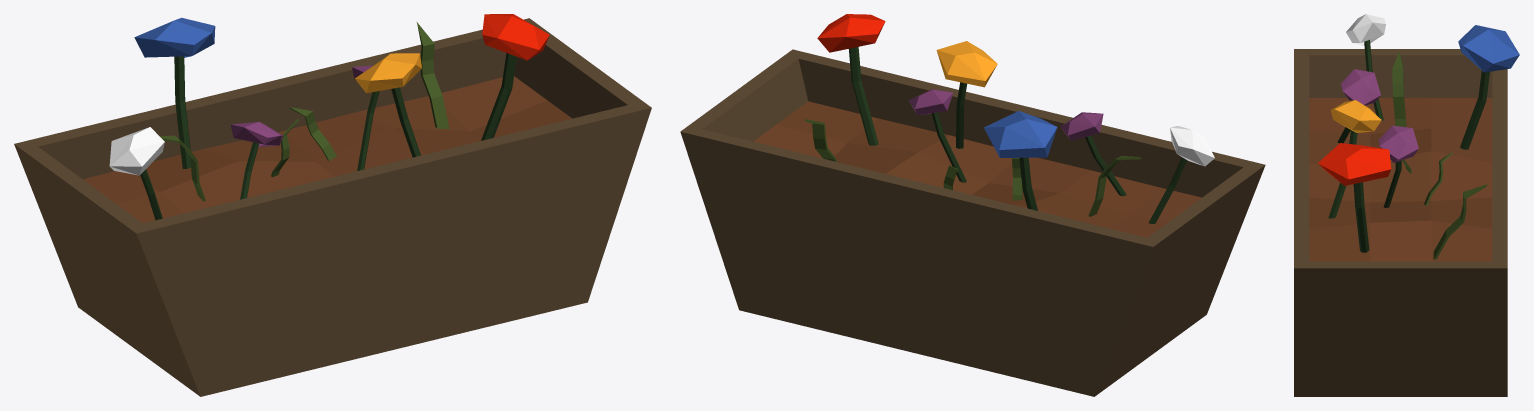
File: FlowerPot_2.fbx
3 views of the same model, side by side, from view 1: azimuth 30°, elevation 25°; view 2: azimuth 150°, elevation 25°; view 3: azimuth 270°, elevation 25° (orthographic). The views are drawn at different scales.
Parts seen in each view (by area): view 1: FlowerPot_2; view 2: FlowerPot_2; view 3: FlowerPot_2.
Part boxes in pixels (left/top/right/bottom): FlowerPot_2: left=14, top=14, right=651, bottom=396; FlowerPot_2: left=680, top=14, right=1265, bottom=396; FlowerPot_2: left=1294, top=14, right=1519, bottom=396.
Size of the model in its own units: 113 by 57.6 by 49.34.
